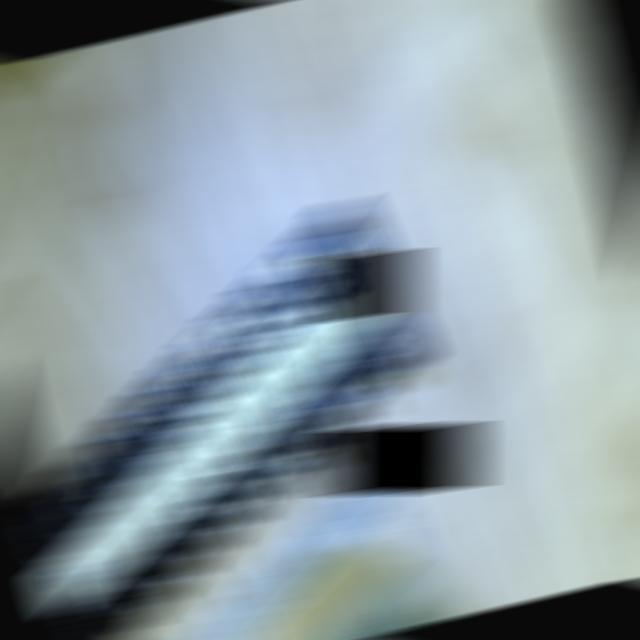Phillips_Block: (0, 201, 465, 640)
